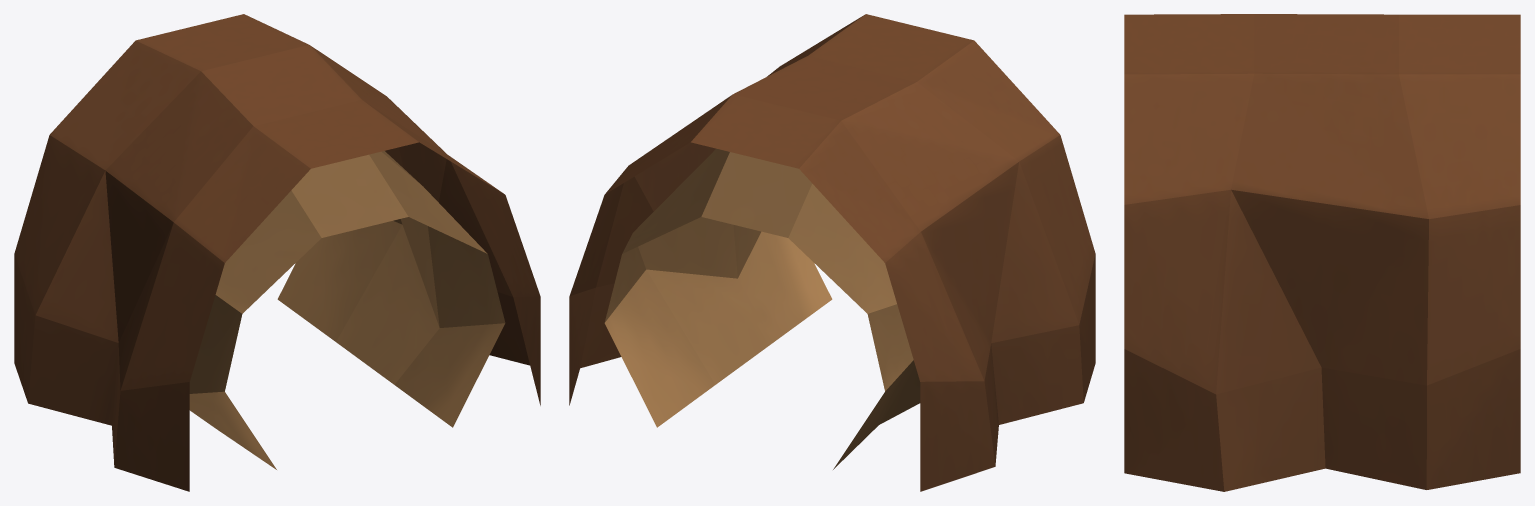
File: Tronc_Perce_C1.FBX
The picture shows the model from 3 angles, left to right: view 1: azimuth 30°, elevation 25°; view 2: azimuth 150°, elevation 25°; view 3: azimuth 270°, elevation 25°; orthographic projection. The views are drawn at different scales.
Parts seen in each view (by area): view 1: TroncPerce_C1; view 2: TroncPerce_C1; view 3: TroncPerce_C1.
Part boxes in pixels (x1,y1,x2,y2): TroncPerce_C1: (14,14,540,491); TroncPerce_C1: (569,14,1095,491); TroncPerce_C1: (1124,14,1520,491).
Bounding box in the file's own units: 2.38 × 1.63 × 1.73.
